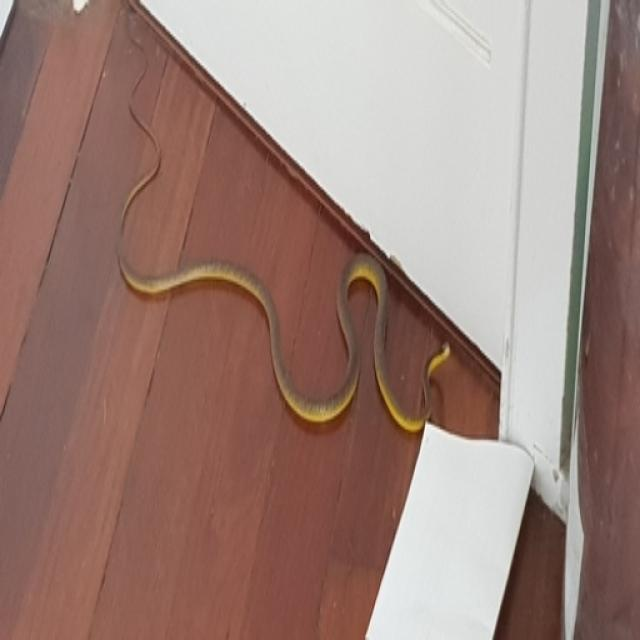snake: (112, 86, 464, 437)
